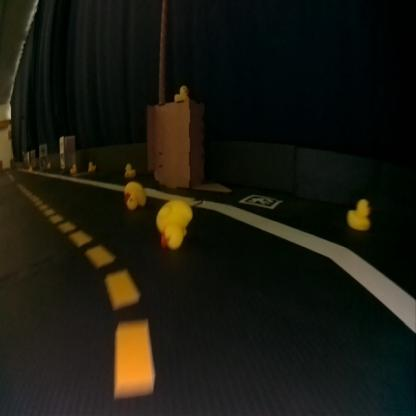Duckie: (155, 202, 190, 248), (123, 182, 145, 208), (348, 200, 368, 227), (175, 84, 187, 102), (87, 161, 95, 171), (69, 164, 75, 172)
QR code: (242, 193, 281, 209)
